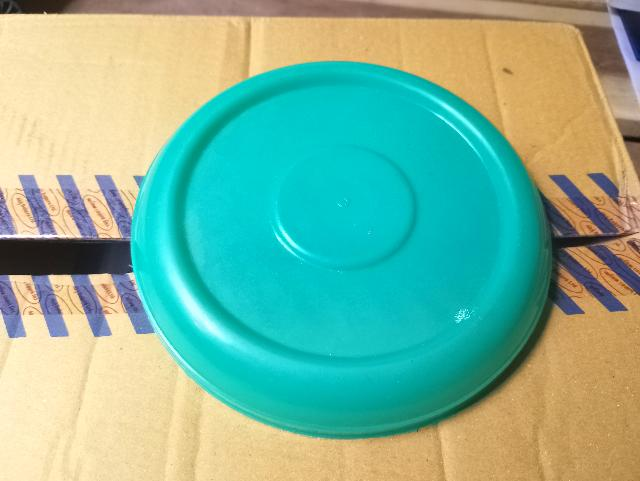hardplastic: (123, 42, 557, 446)
